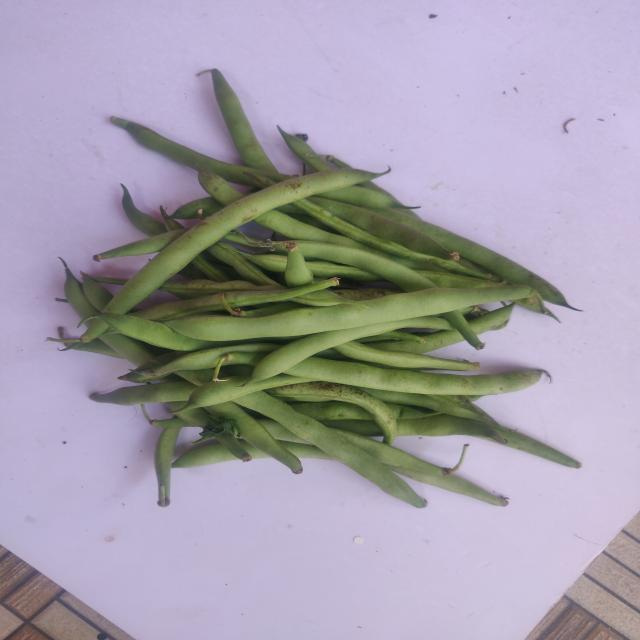Beans: (104, 168, 380, 314), (233, 391, 427, 509), (374, 208, 577, 310), (164, 285, 533, 341), (247, 318, 422, 383), (285, 357, 544, 396), (294, 240, 437, 292), (210, 68, 277, 173)
